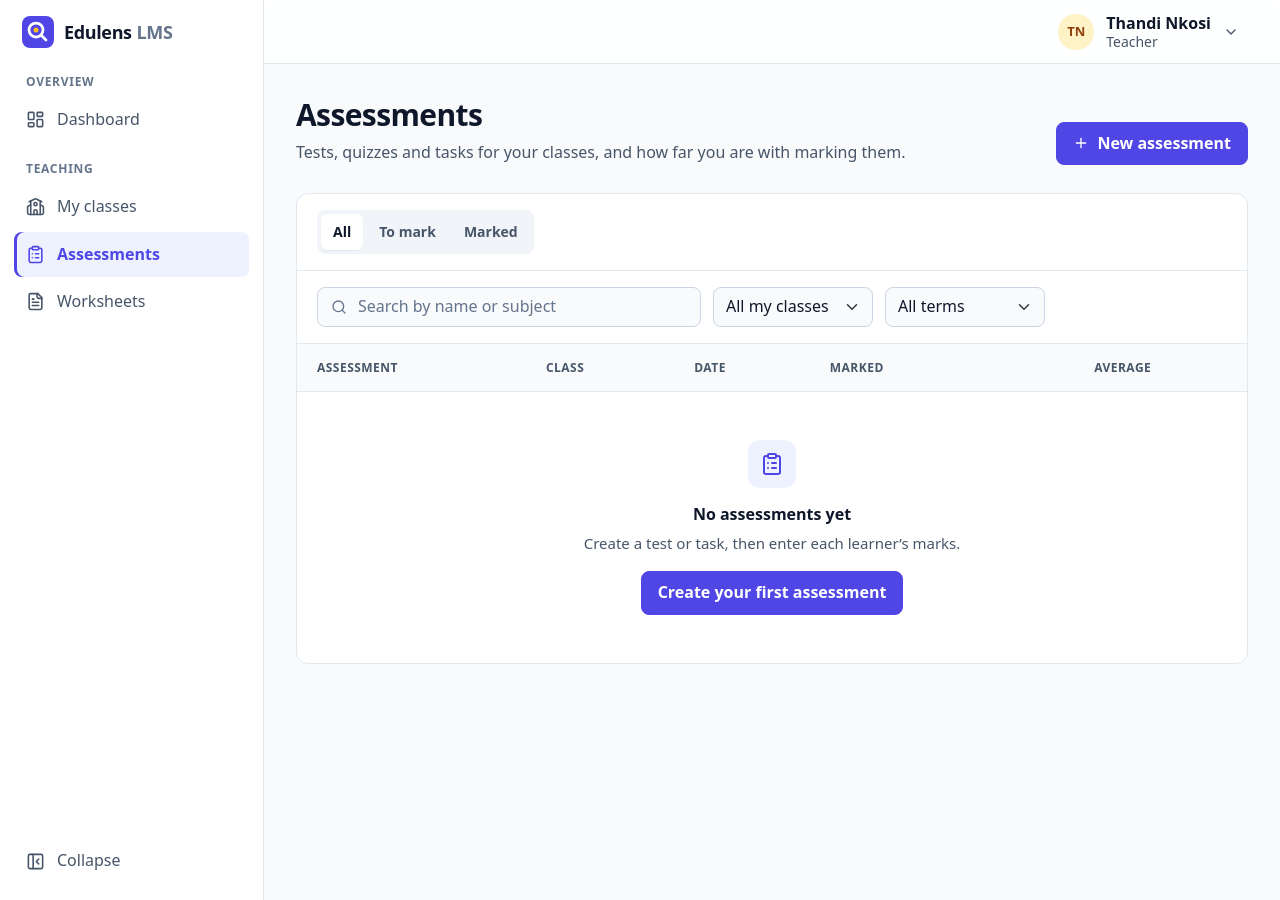
it: Creating an assessment › offers the class's subjects and topics and defaults to the current term
Click the button "Create your first assessment" at (772,593), box top-left (641, 572), bottom-right (903, 615)
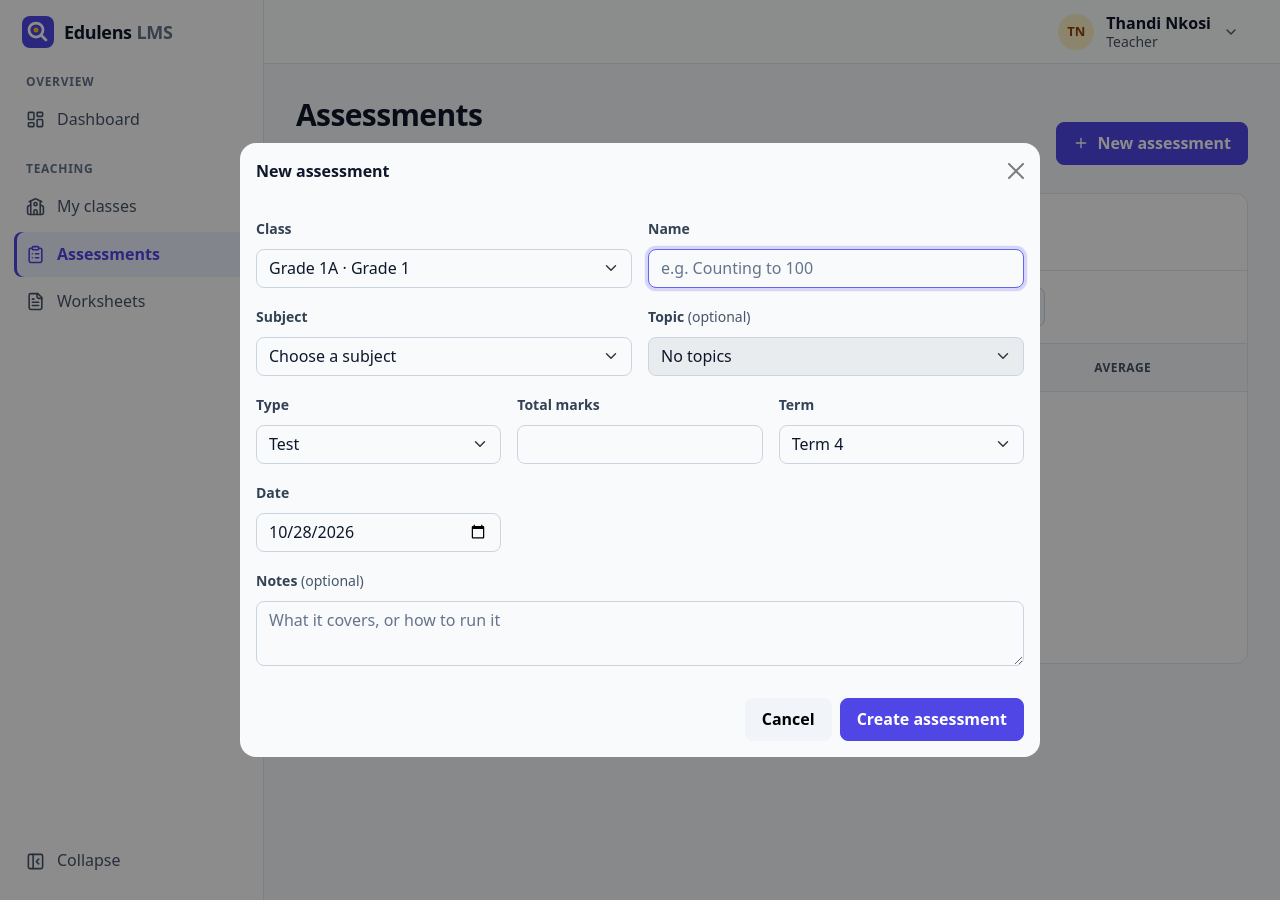
Now the dropdown labelled "Term" shows "Term 4", box top-left (779, 425), bottom-right (1024, 464)
Type "Shapes quiz" into the field labelled "Name" at (836,268), box top-left (648, 249), bottom-right (1024, 288)
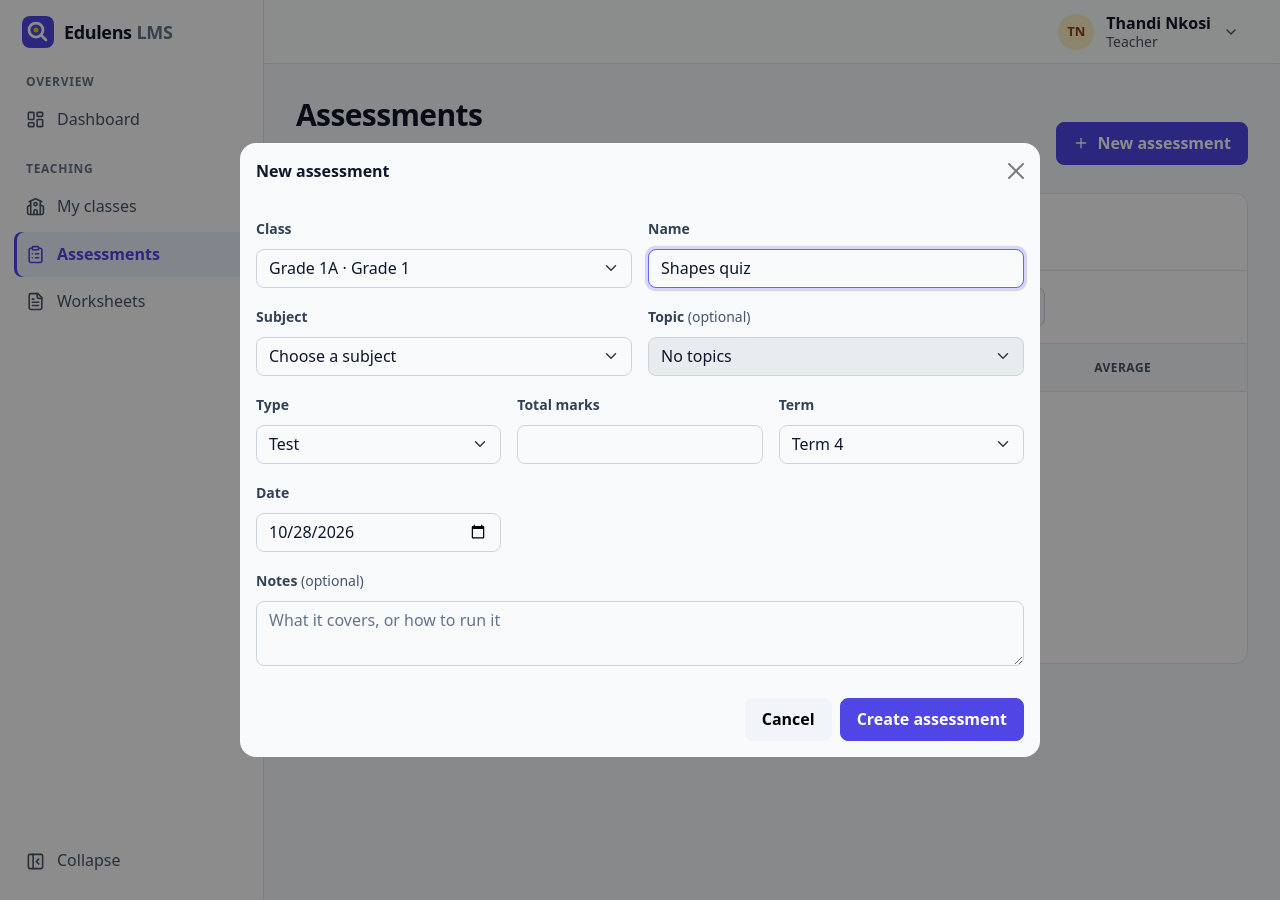
Select "Mathematics" in the dropdown labelled "Subject" at (444,356), box top-left (256, 337), bottom-right (632, 376)
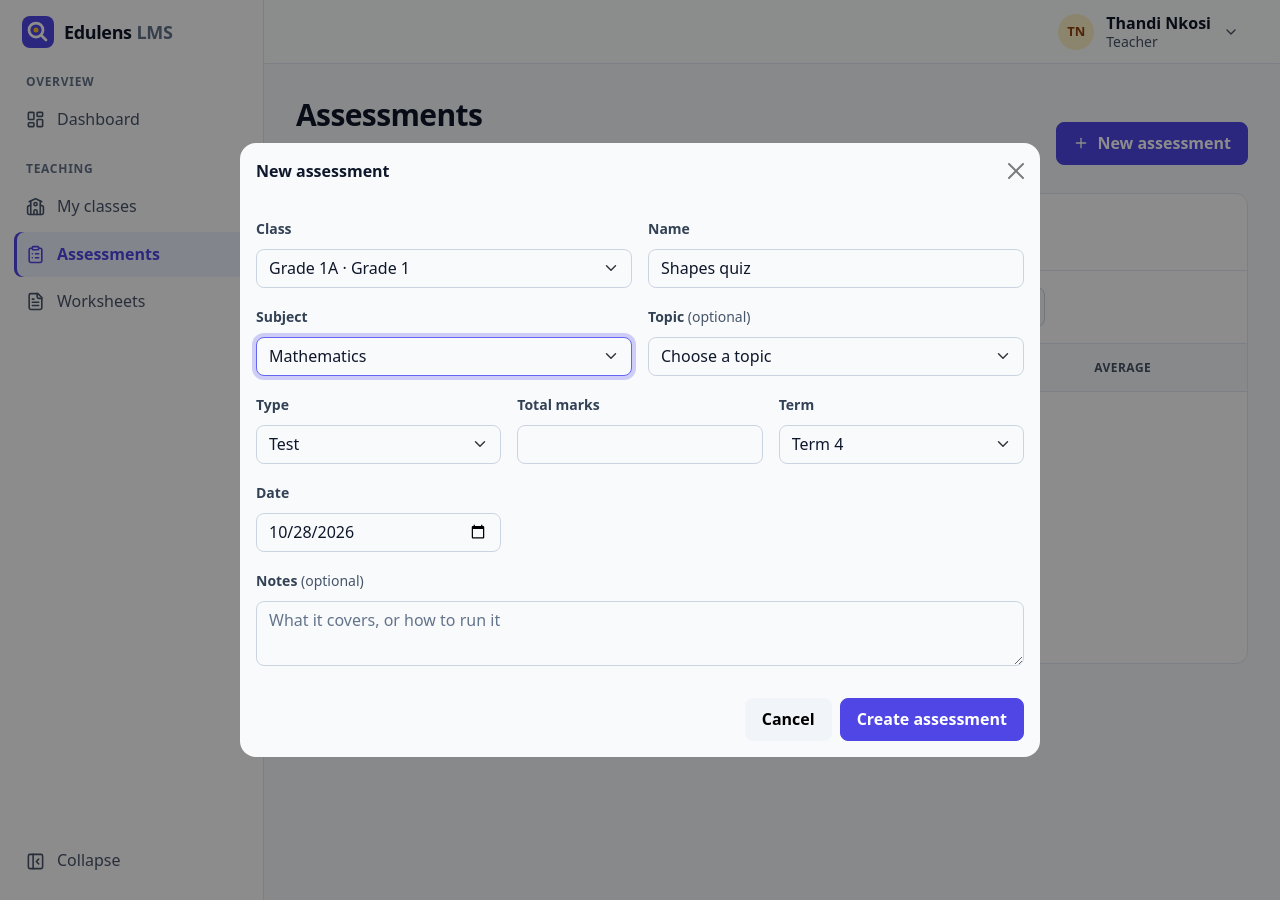
Select "Counting" in the dropdown labelled "Topic (optional)" at (836,356), box top-left (648, 337), bottom-right (1024, 376)
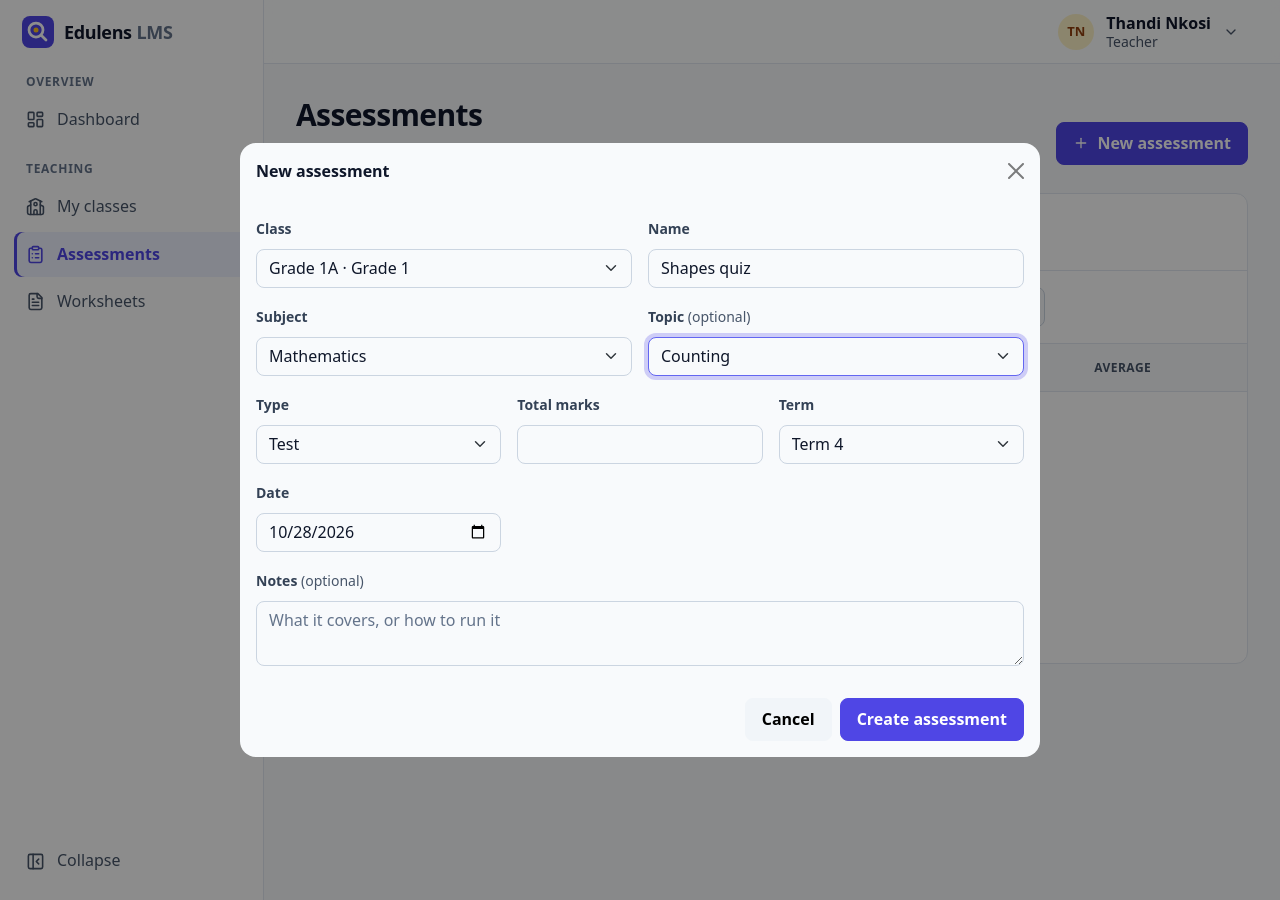
Type "10" into the number field labelled "Total marks" at (640,444), box top-left (517, 425), bottom-right (763, 464)
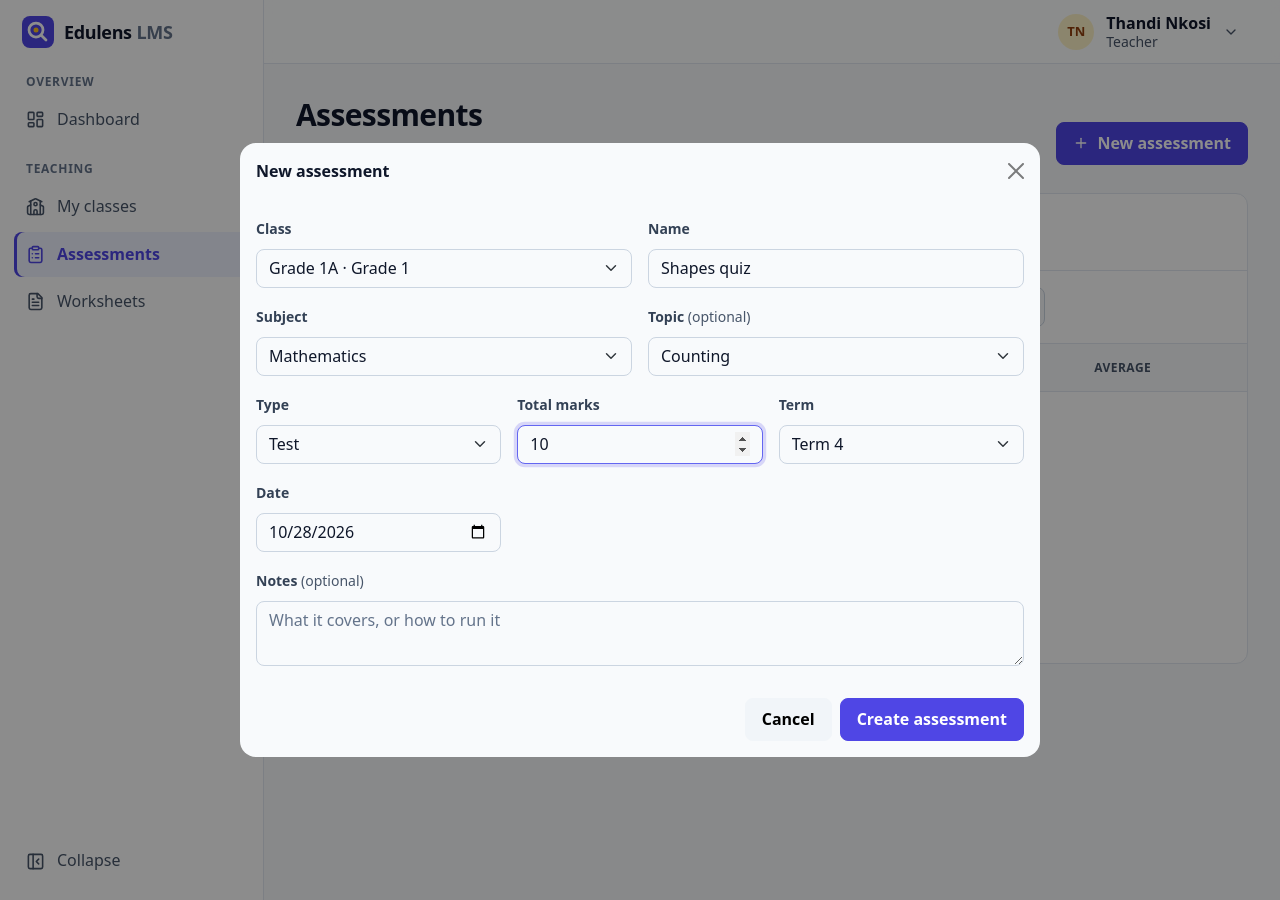
Click the button "Create assessment" at (932,720), box top-left (840, 698), bottom-right (1024, 741)
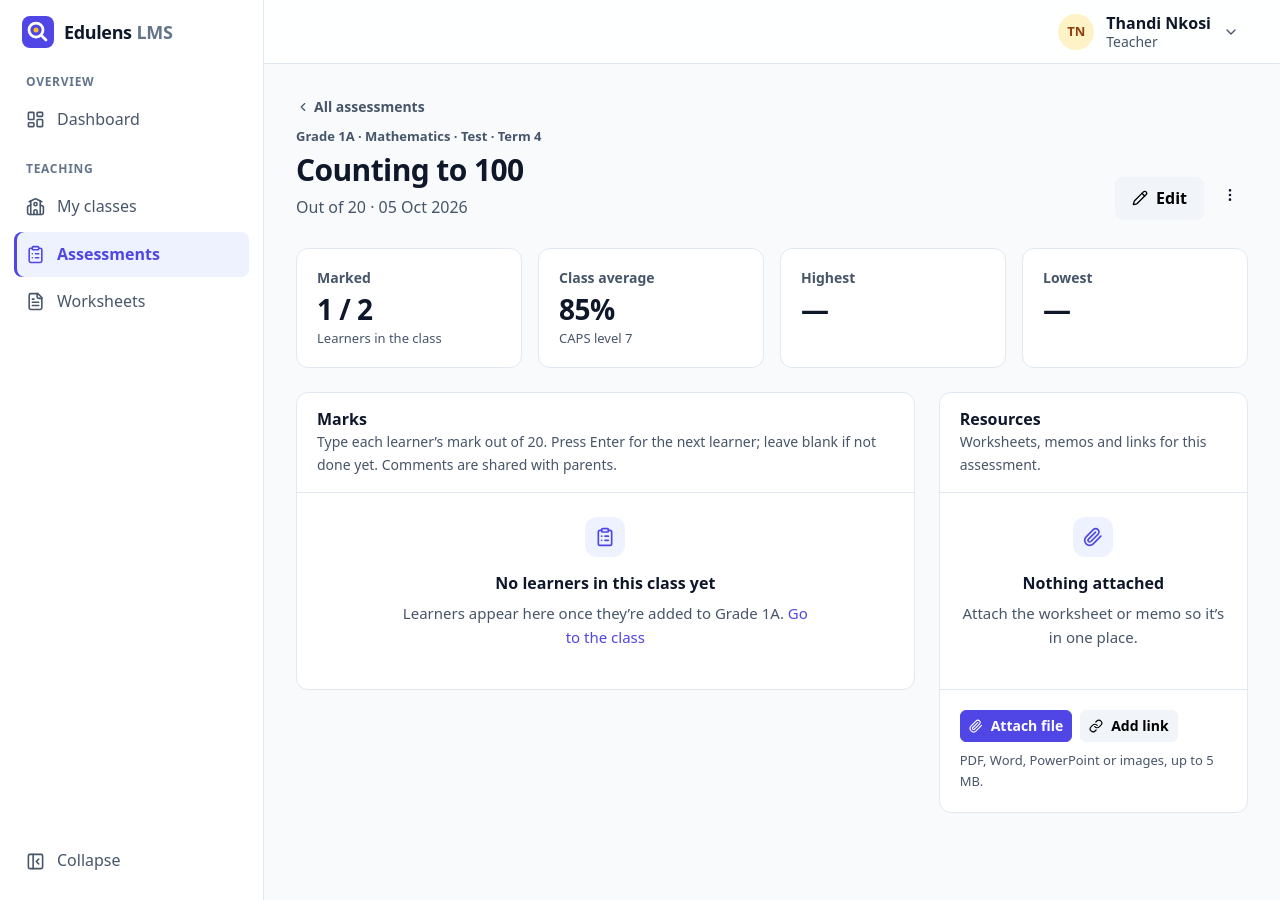
Now the heading "Counting to 100" is shown, box top-left (296, 149), bottom-right (524, 190)
